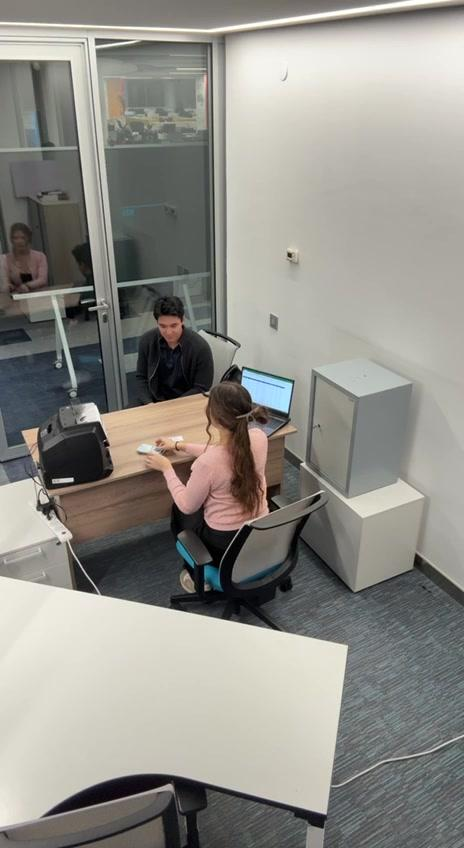cash_stack: (136, 443, 166, 456)
counter: (36, 402, 114, 487)
key_in: (309, 423, 324, 440)
screen_on: (240, 367, 294, 416)
